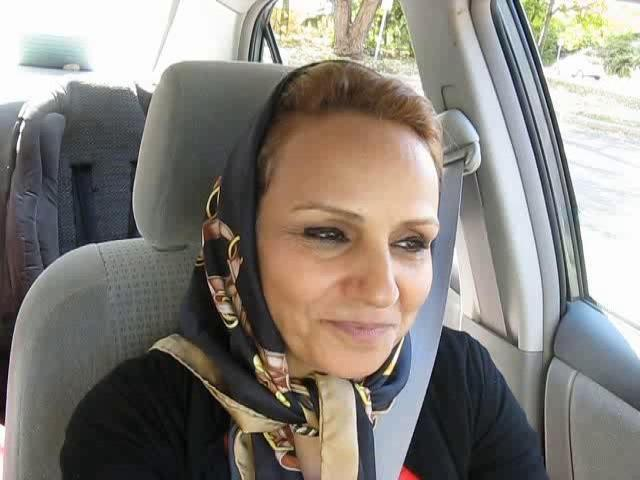eye_open: (293, 219, 354, 248), (392, 227, 431, 258)
face: (268, 177, 438, 380)
